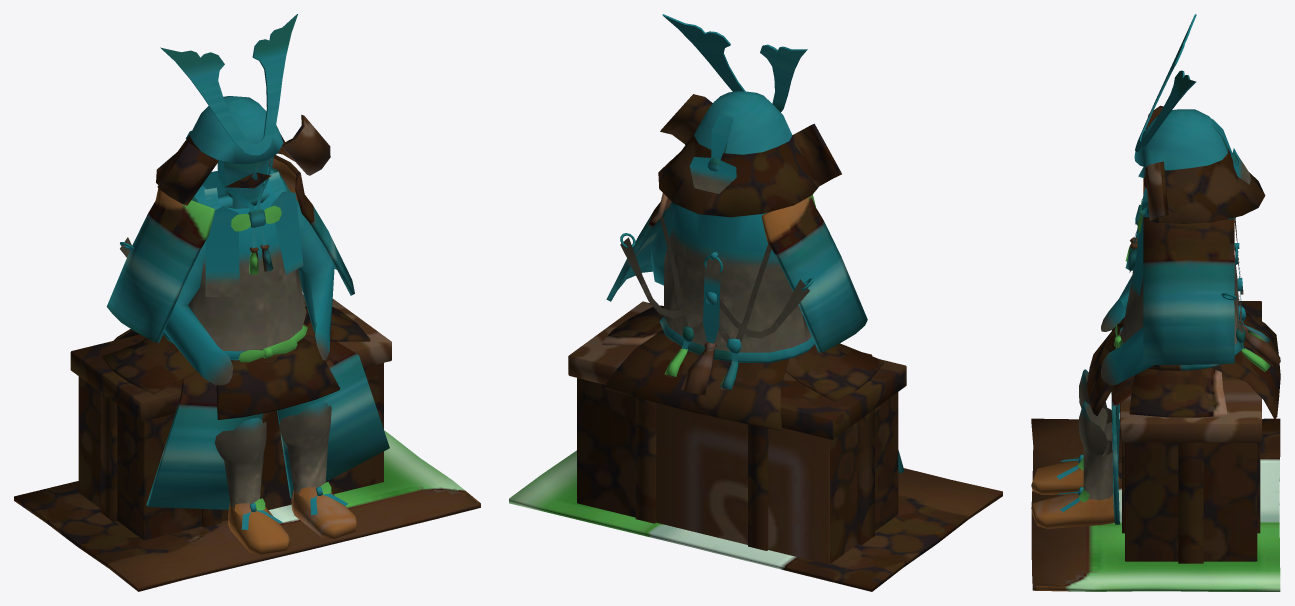
The model's file is gold_armor.fbx.
The picture shows the model from 3 angles, left to right: view 1: azimuth 30°, elevation 25°; view 2: azimuth 150°, elevation 25°; view 3: azimuth 270°, elevation 25°; orthographic projection. The views are drawn at different scales.
Visible parts, largest first — view 1: Box_low__mBody; view 2: Box_low__mBody; view 3: Box_low__mBody.
Boxes of the visible parts, x1,y1,x2,y2 form: Box_low__mBody: (14, 14, 480, 591); Box_low__mBody: (509, 14, 1002, 591); Box_low__mBody: (1031, 14, 1280, 591).
Size of the model in its own units: 319 by 406 by 200.
